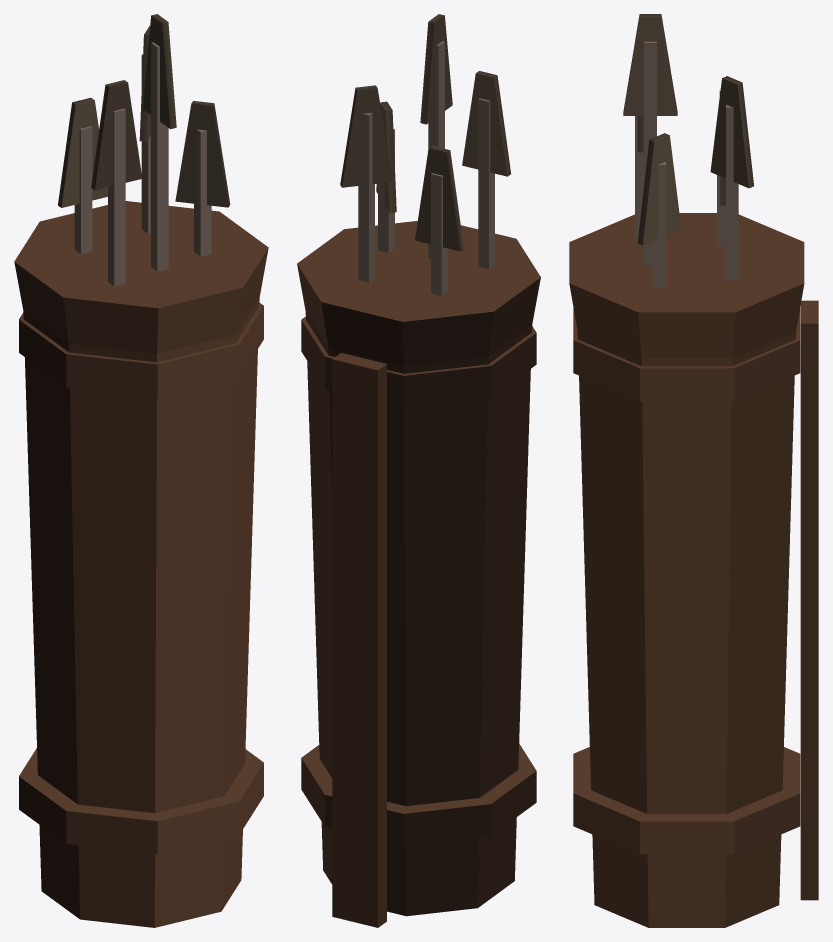
Rendered from ranger_off_0.gltf.
3 views of the same model, side by side, from view 1: azimuth 30°, elevation 25°; view 2: azimuth 150°, elevation 25°; view 3: azimuth 270°, elevation 25° (orthographic). The views are drawn at different scales.
Visible parts, largest first — view 1: ranger_off_0; view 2: ranger_off_0; view 3: ranger_off_0.
Boxes of the visible parts, <box> form: ranger_off_0: <box>14,14,268,927</box>; ranger_off_0: <box>297,14,540,927</box>; ranger_off_0: <box>569,14,818,927</box>.
Bounding box in the file's own units: 0.2587 × 1.08 × 0.2743.
Materials: 1 (1 with a texture image).
